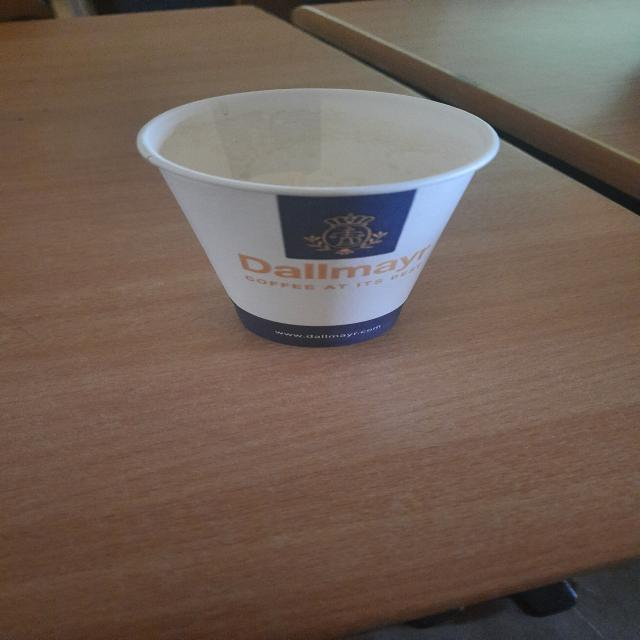plastic: (74, 74, 574, 374)
